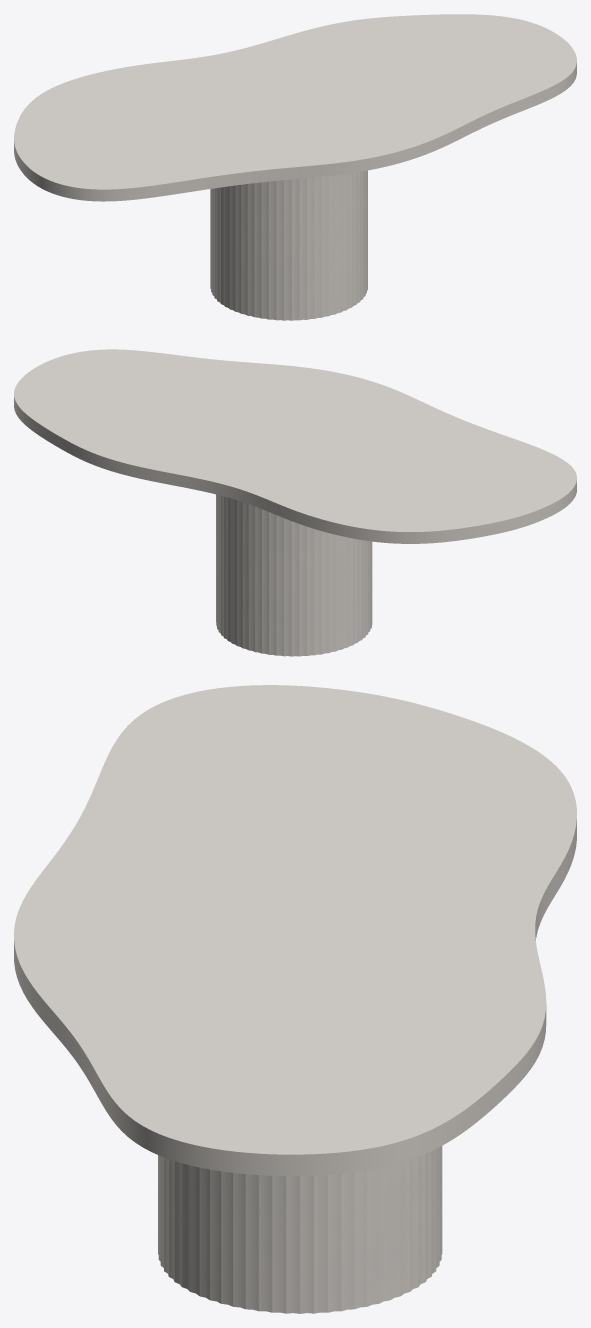
Rendered from pearlwhite_toplast_standard_ripple.glb.
The picture shows the model from 3 angles, top to bottom: view 1: azimuth 30°, elevation 25°; view 2: azimuth 150°, elevation 25°; view 3: azimuth 270°, elevation 25°; orthographic projection. The views are drawn at different scales.
Parts seen in each view (by area): view 1: standard_toplast, ripple; view 2: standard_toplast, ripple; view 3: standard_toplast, ripple.
Boxes of the visible parts, left/top/right/bottom form: standard_toplast: left=14, top=14, right=576, bottom=201; ripple: left=210, top=170, right=367, bottom=320; standard_toplast: left=14, top=349, right=576, bottom=543; ripple: left=216, top=494, right=372, bottom=656; standard_toplast: left=14, top=685, right=576, bottom=1175; ripple: left=158, top=1146, right=442, bottom=1313.
Bounding box in the file's own units: 7.5 × 2.5 × 3.8.
1 material, 1 textured.
